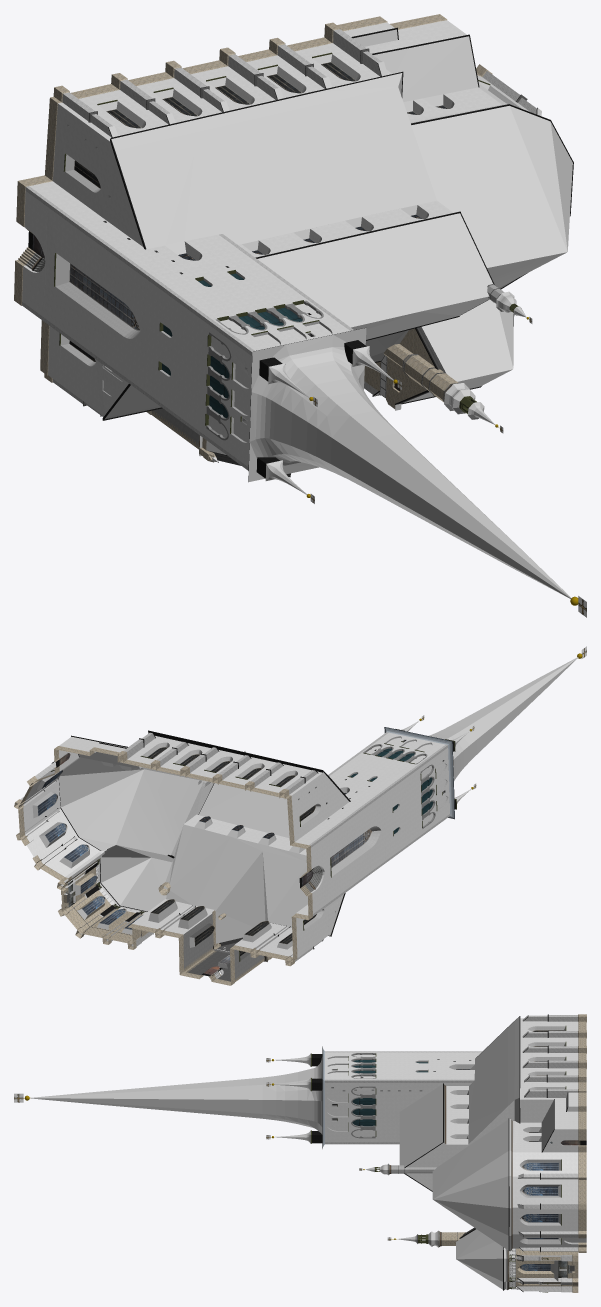
The model's file is Lai_50.obj.
3 views of the same model, one above another, from view 1: azimuth 30°, elevation 25°; view 2: azimuth 150°, elevation 25°; view 3: azimuth 270°, elevation 25° (orthographic). The views are drawn at different scales.
Parts seen in each view (by area): view 1: Lai_50; view 2: Lai_50; view 3: Lai_50.
Boxes of the visible parts, left/top/right/bottom form: Lai_50: left=14, top=14, right=586, bottom=617; Lai_50: left=14, top=646, right=586, bottom=985; Lai_50: left=14, top=1014, right=586, bottom=1292.
Bounding box in the file's own units: 68.53 × 45.97 × 124.
